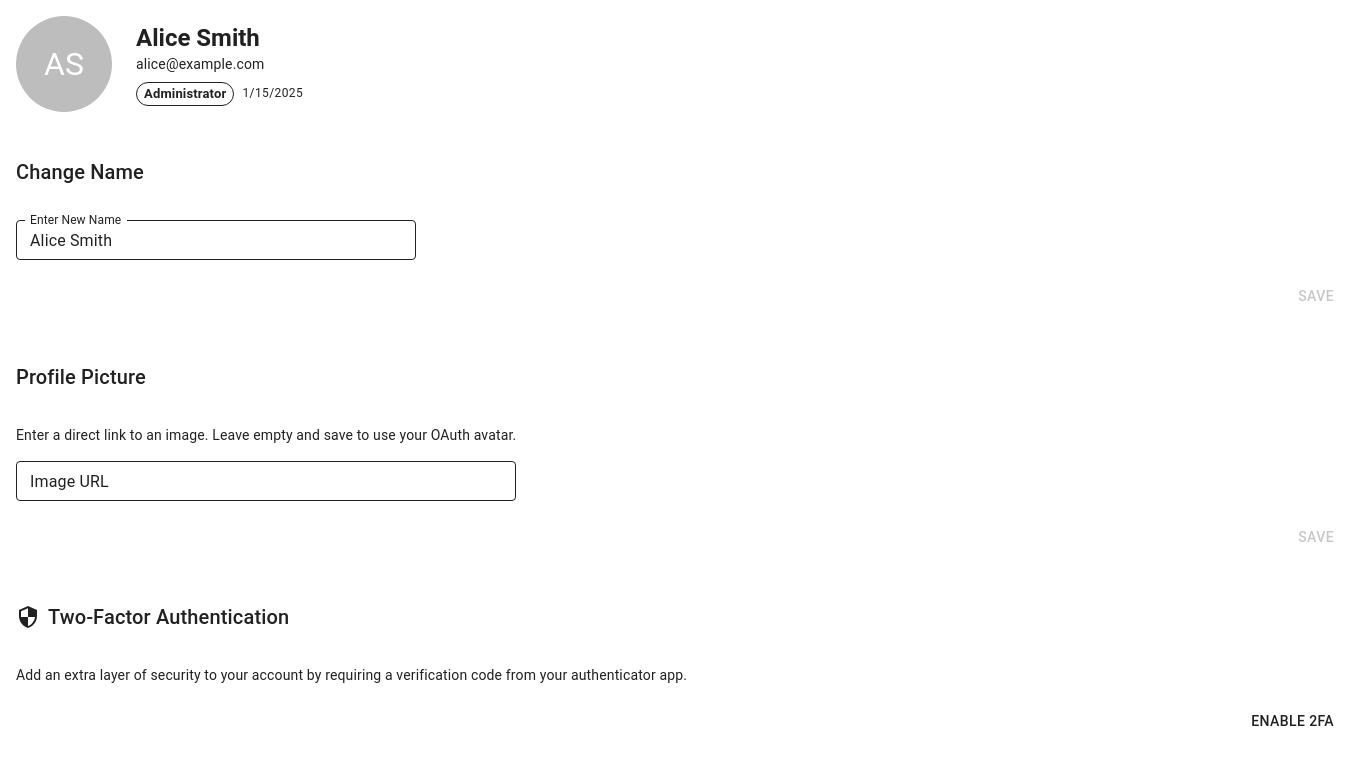
Test: ProfileEditor › image save button enables when URL is changed
Type "https://new.com/pic.jpg" into the field labelled "Image URL" at (266, 480), box x1=16 y1=460 x2=516 y2=500
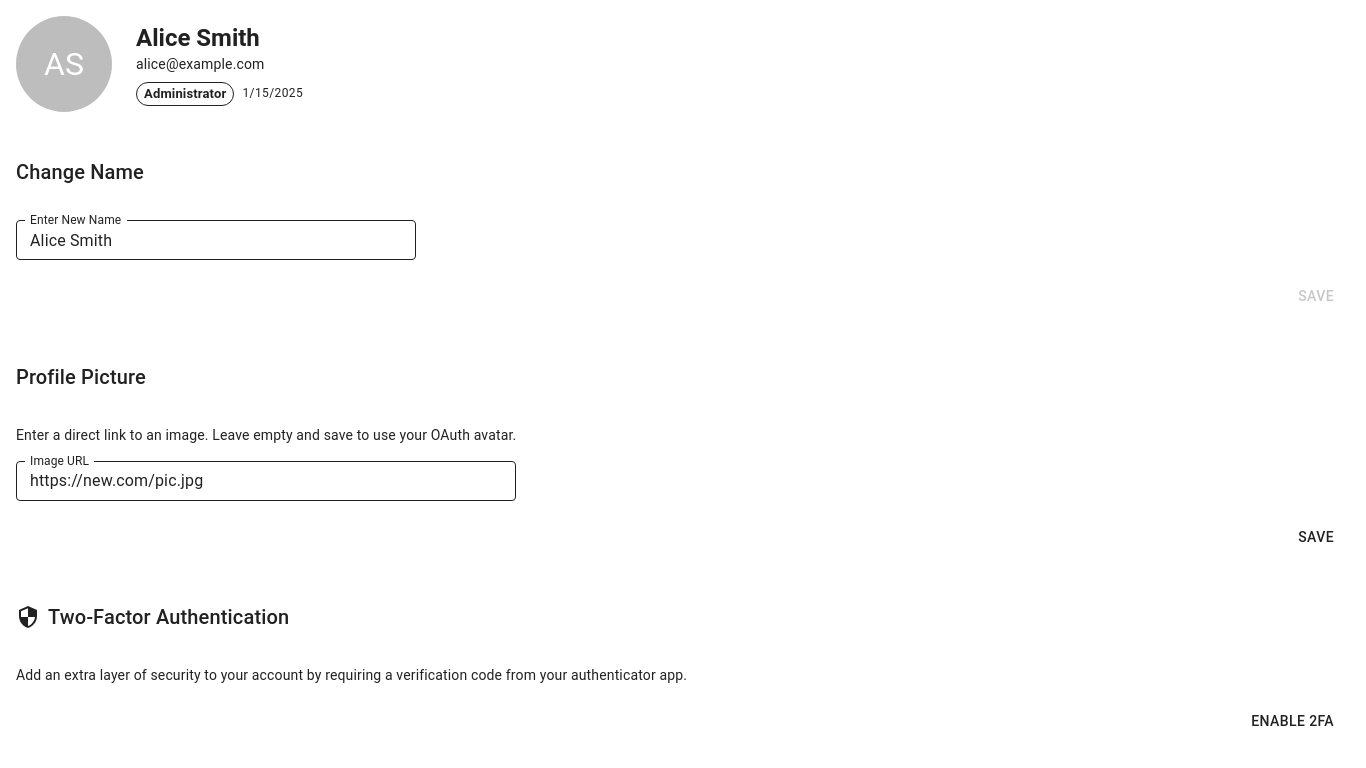
Check: the 2nd button "Save" is enabled, box x1=1282 y1=516 x2=1350 y2=557
